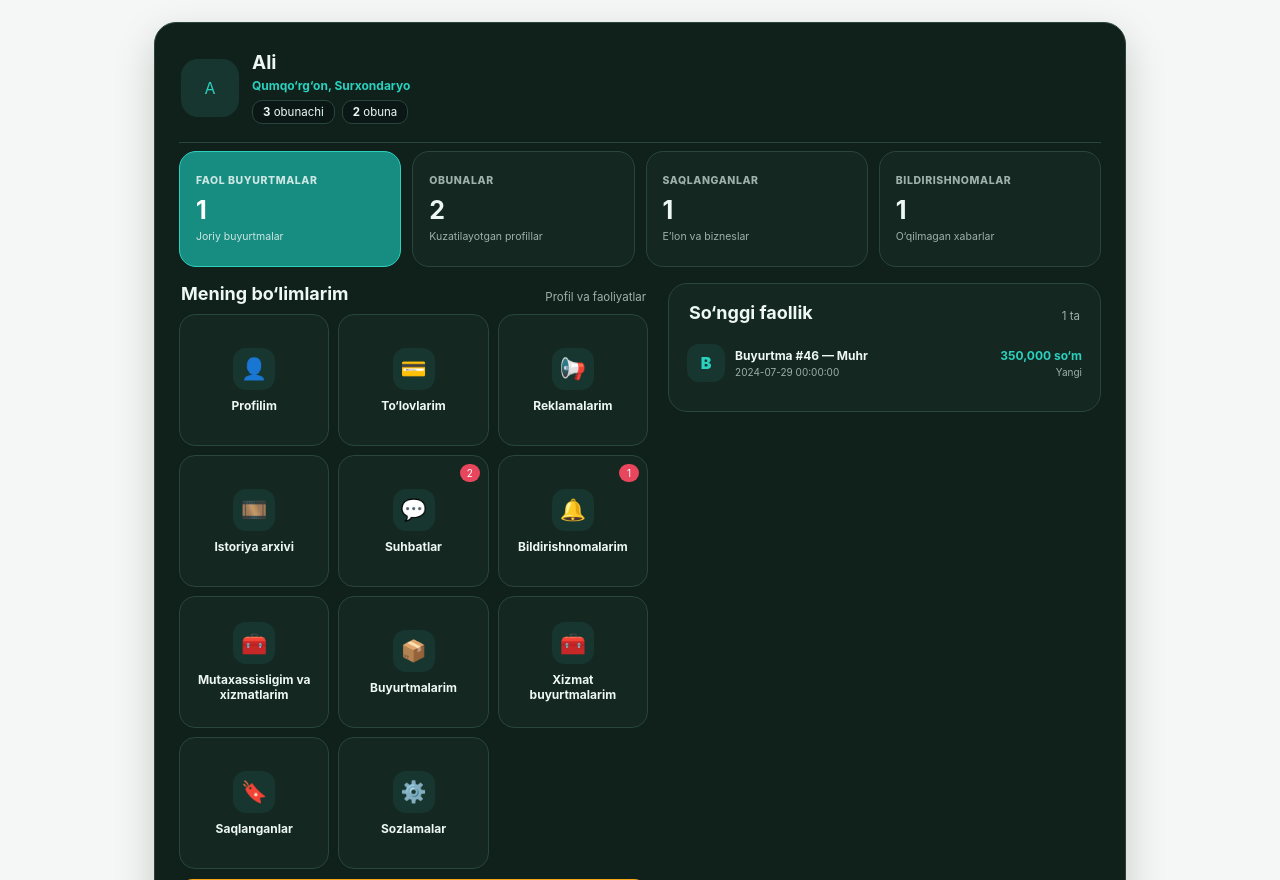
Test case: profile cabinets › edits user profile without business fields
Click the button named "Profilim Ism".
click(254, 380)  # box [179,314,329,446]
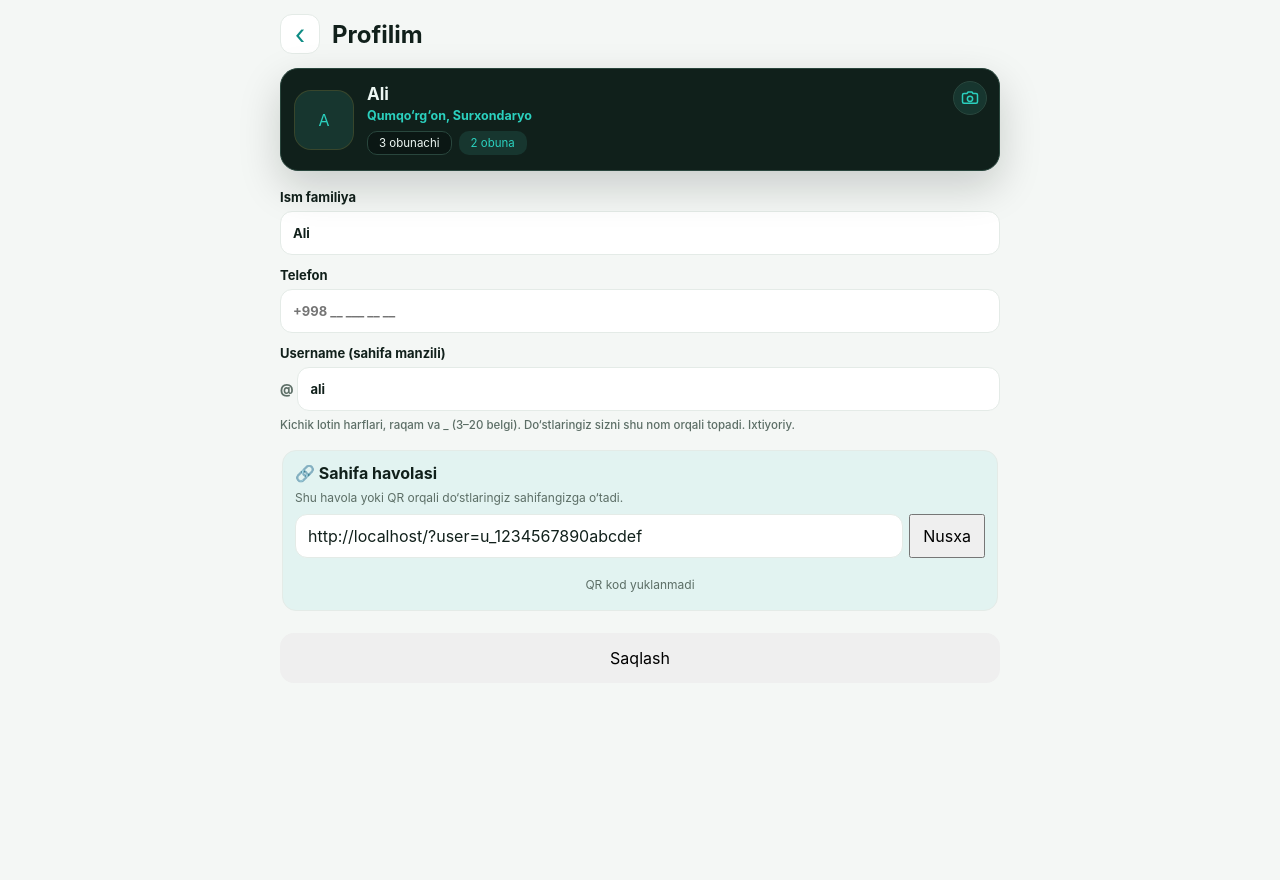
Replace the text in the field labelled "Ism familiya" with "Yangi ism" at (640, 233), box [280,211,1000,255]
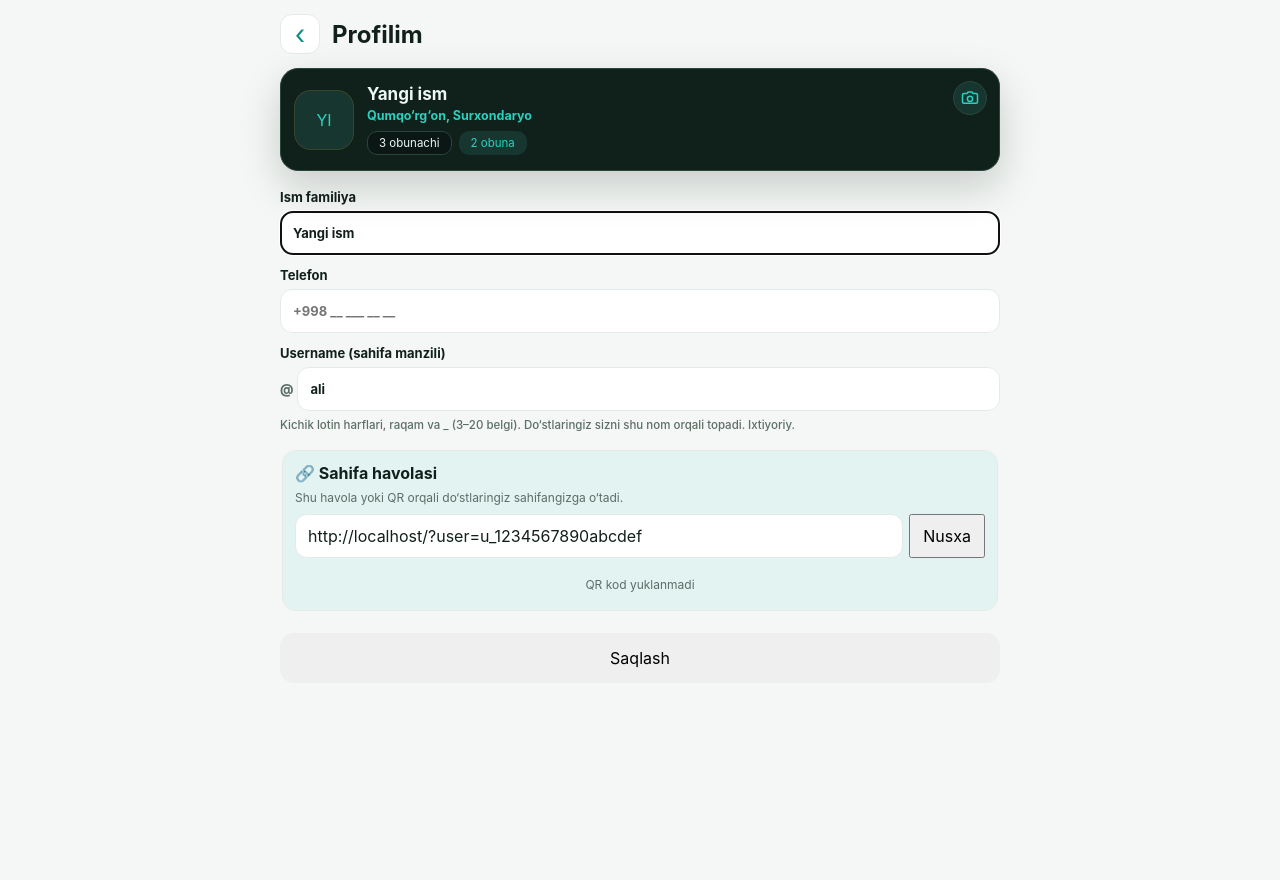
Click the button "Saqlash".
click(640, 658)  # box [280,633,1000,683]
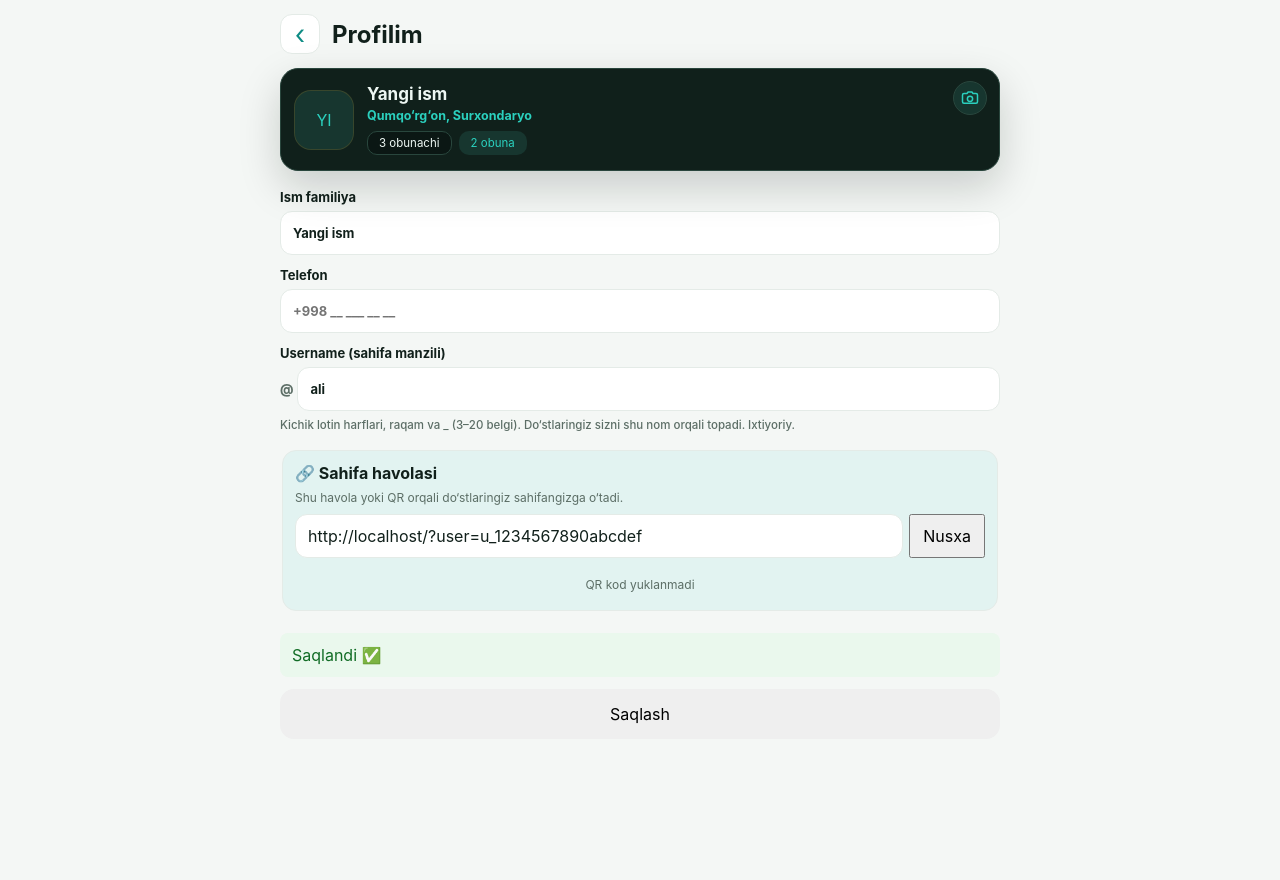
Expected: the text "Saqlandi ✅" is shown, [280,633,1000,677]
